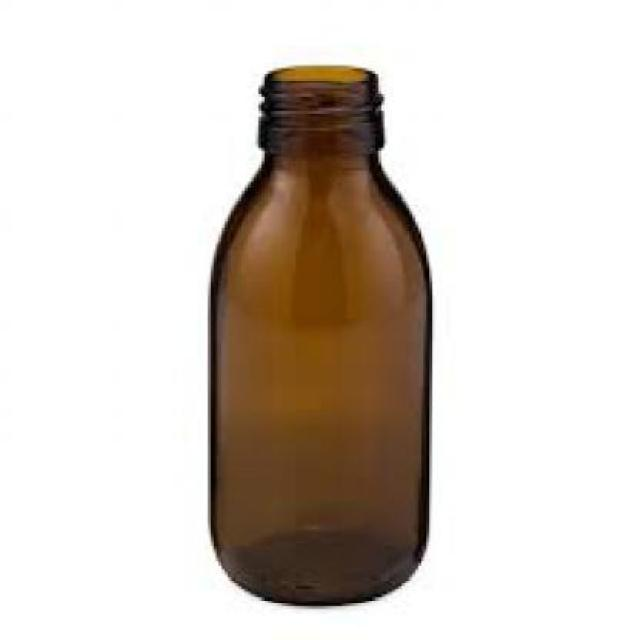kaca: (208, 63, 426, 603)
